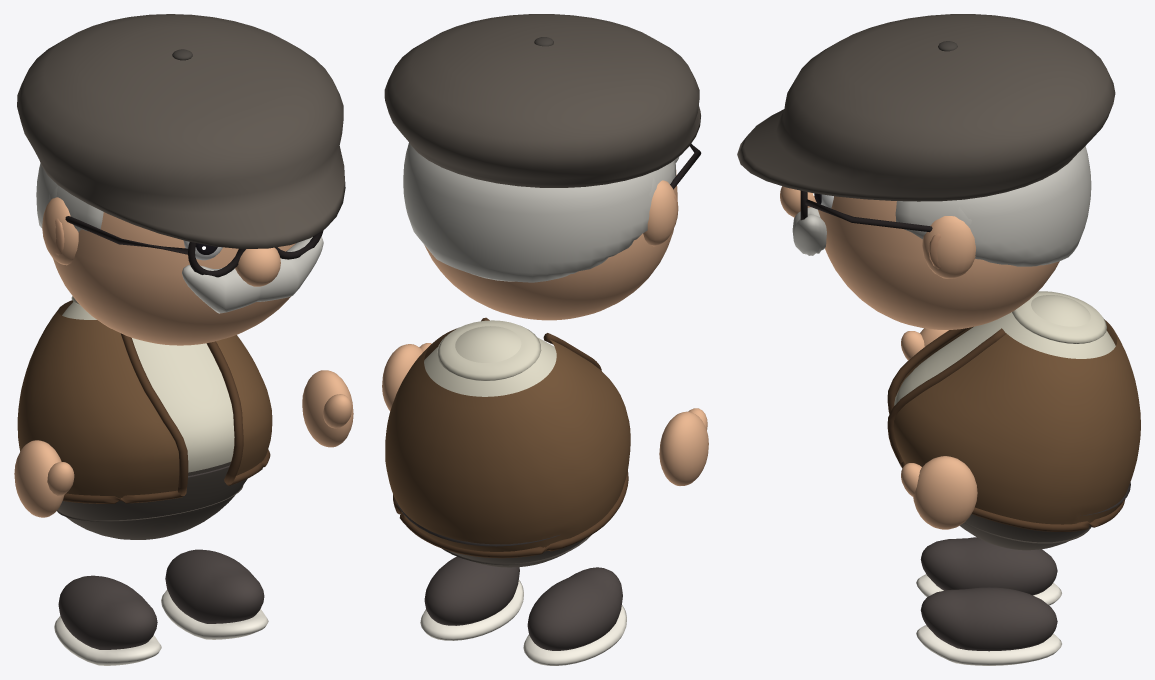
The model's file is char_emekli.glb.
3 renders of one model, left to right at view 1: azimuth 30°, elevation 25°; view 2: azimuth 150°, elevation 25°; view 3: azimuth 270°, elevation 25°, orthographic. The views are drawn at different scales.
Visible parts, largest first — view 1: Head, Body, FootR, FootL, HandR, HandL; view 2: Head, Body, FootR, FootL, HandR, HandL; view 3: Head, Body, FootL, FootR, HandL, HandR.
Part boxes in pixels (<box>): Head: <box>17,14,345,345</box>; Body: <box>17,296,272,539</box>; FootR: <box>54,575,161,665</box>; FootL: <box>161,549,268,639</box>; HandR: <box>14,440,74,517</box>; HandL: <box>302,370,353,447</box>; Head: <box>384,14,701,320</box>; Body: <box>385,317,630,567</box>; FootR: <box>523,567,626,665</box>; FootL: <box>420,556,523,640</box>; HandR: <box>659,408,708,485</box>; HandL: <box>382,343,431,410</box>; Head: <box>737,14,1115,329</box>; Body: <box>887,291,1140,550</box>; FootL: <box>916,587,1061,665</box>; FootR: <box>916,537,1061,605</box>; HandL: <box>901,456,977,529</box>; HandR: <box>901,328,948,360</box>.
Size of the model in its own units: 0.796 by 1.39 by 0.873.
